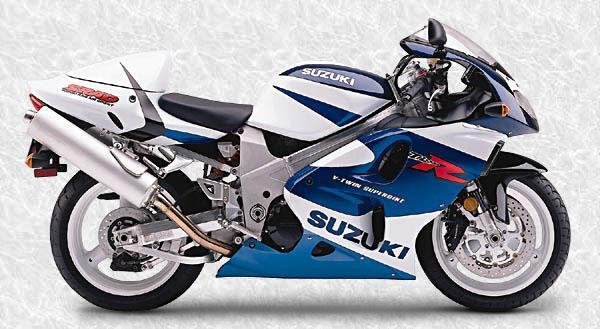motorcycle: (16, 13, 596, 324)
